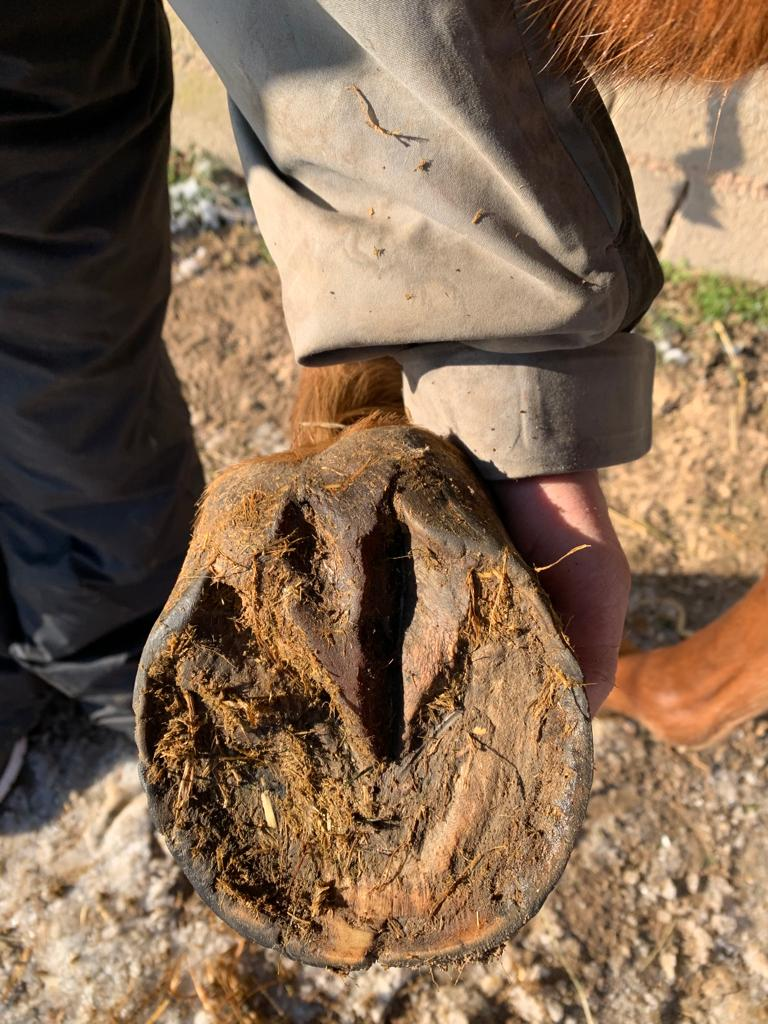horsesole: (131, 486, 594, 970)
